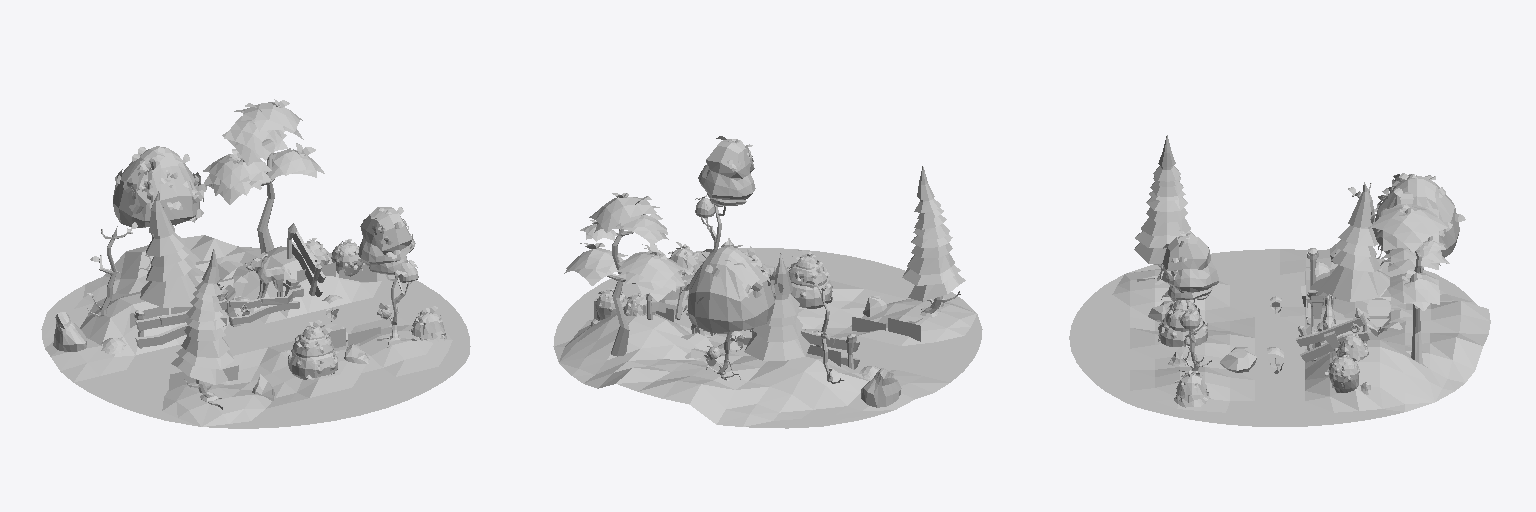
Rendered from round screne2.obj.
The picture shows the model from 3 angles: view 1: azimuth 30°, elevation 25°; view 2: azimuth 150°, elevation 25°; view 3: azimuth 270°, elevation 25°; orthographic projection.
Parts seen in each view (by area): view 1: tree_02.001; view 2: tree_02.001; view 3: tree_02.001.
Part boxes in pixels (x1,y1,x2,y2): tree_02.001: (41,99,470,428); tree_02.001: (553,136,982,428); tree_02.001: (1069,135,1490,426).
Size of the model in its own units: 32.54 by 15.38 by 32.54.